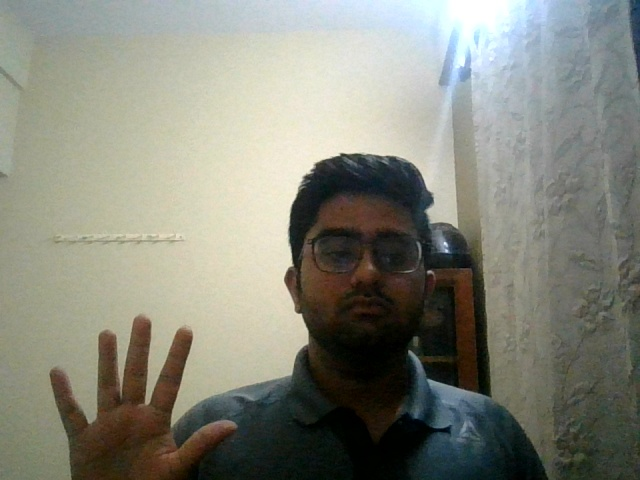Hello: (30, 319, 248, 480)
